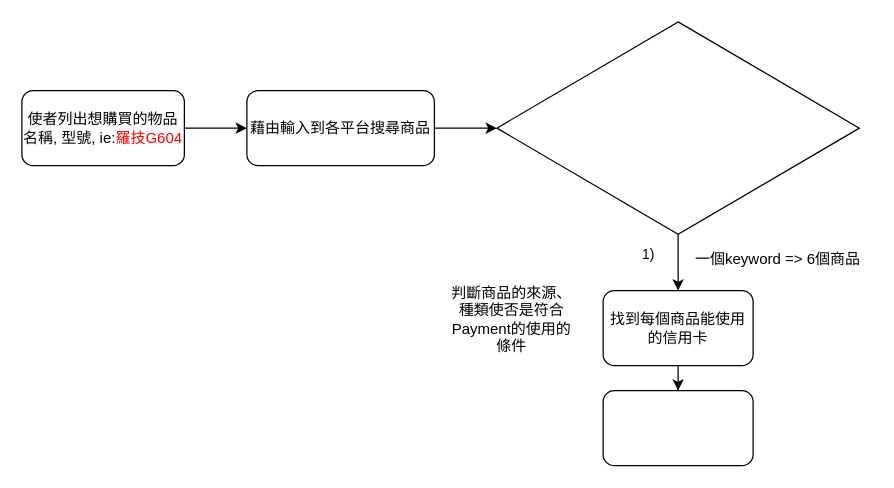
This 894x488 diagram has some shape labels left out. The centre of each missing label's shape, as x and y in pixels:
"(1)每件商品考慮在電商上搜索到的前三種／ (2)列出物品的搜尋結果讓使用者選取" belongs at [677,127].
"計算Payment能提供多少優惠" belongs at [677,427].
